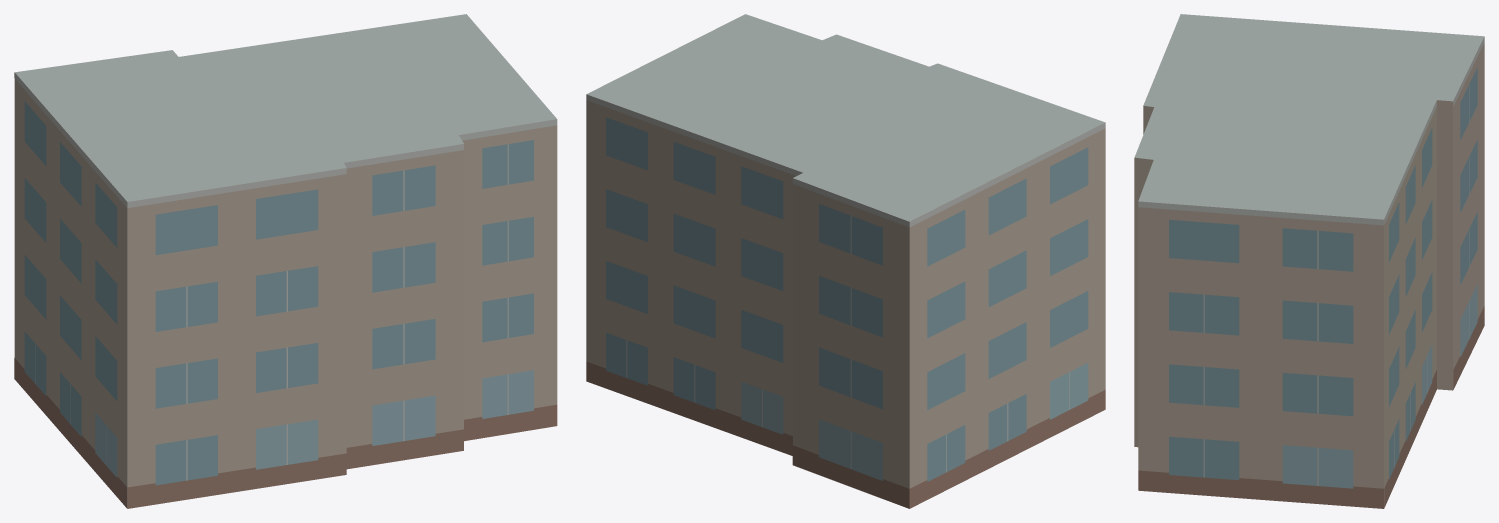
The model's file is survey-upis-32548197.glb.
3 views of the same model, side by side, from view 1: azimuth 30°, elevation 25°; view 2: azimuth 150°, elevation 25°; view 3: azimuth 270°, elevation 25° (orthographic). The views are drawn at different scales.
Parts seen in each view (by area): view 1: survey-upis-32548197.tmp; view 2: survey-upis-32548197.tmp; view 3: survey-upis-32548197.tmp.
Boxes of the visible parts, box(x1,y1,x2,y2) form: survey-upis-32548197.tmp: box(14, 14, 557, 508); survey-upis-32548197.tmp: box(586, 14, 1105, 508); survey-upis-32548197.tmp: box(1134, 14, 1484, 508).
Size of the model in its own units: 18.61 by 12.2 by 13.4.
